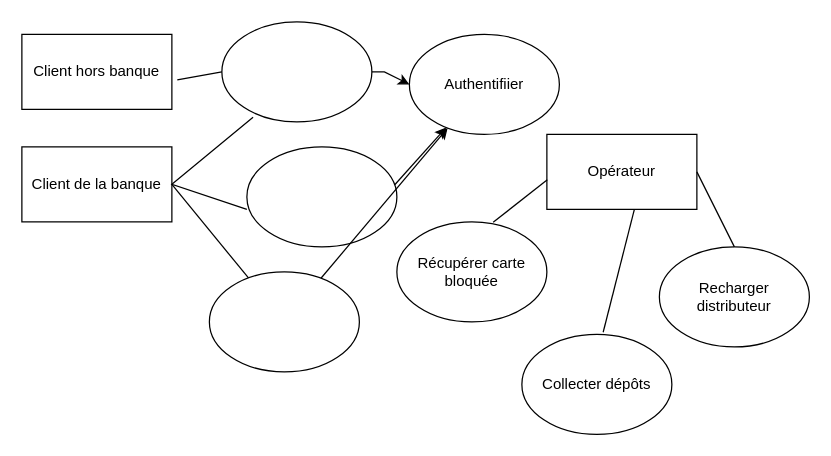
This 831x456 diagram has some shape labels left out. Here are the shapes that lost their labels. From the top down, the centre of each, then its label:
pixel 296 71: Retirer de l'argent
pixel 321 196: Consulter compte
pixel 283 321: Déposer de d'argent
